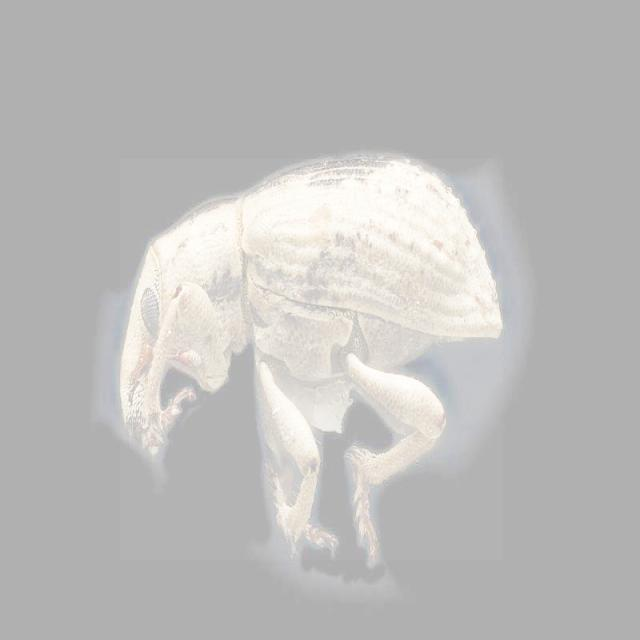rice-bug: (120, 160, 503, 560)
